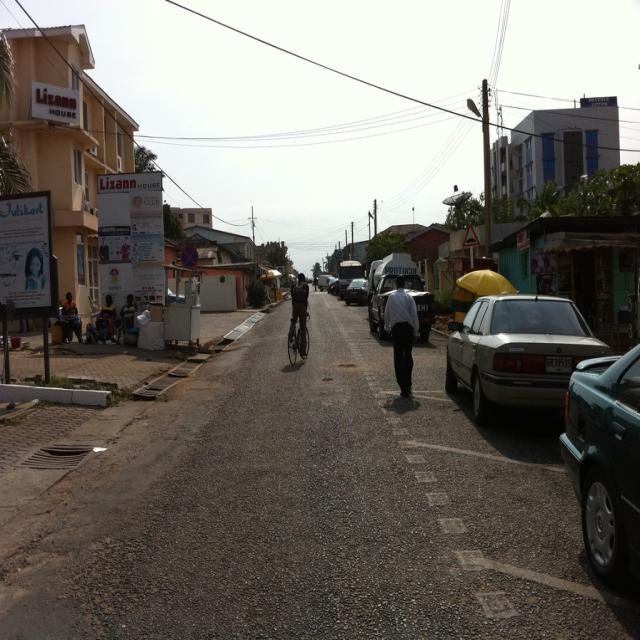car: (445, 279, 611, 423), (556, 342, 639, 598), (343, 270, 369, 302)
